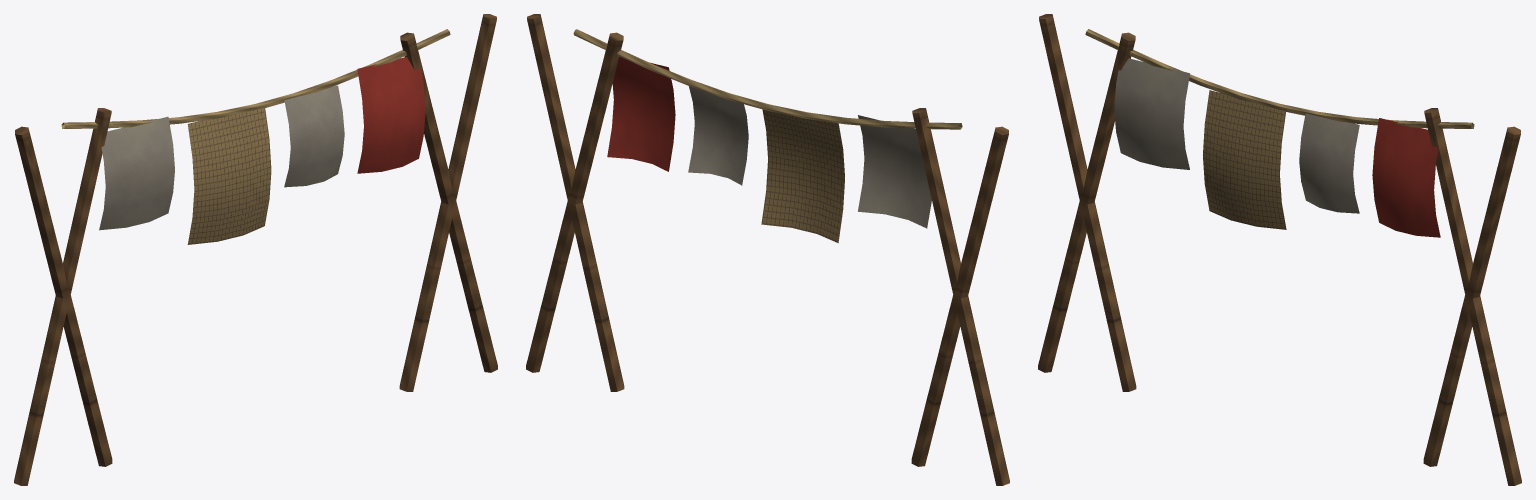
Rendered from prop_waslijn_red.glb.
3 views of the same model, side by side, from view 1: azimuth 30°, elevation 25°; view 2: azimuth 150°, elevation 25°; view 3: azimuth 330°, elevation 25° (orthographic).
Parts seen in each view (by area): view 1: prop_waslijn_red; view 2: prop_waslijn_red; view 3: prop_waslijn_red.
Part boxes in pixels (<box>): prop_waslijn_red: <box>14,14,497,485</box>; prop_waslijn_red: <box>526,14,1009,485</box>; prop_waslijn_red: <box>1038,14,1521,485</box>.
Size of the model in its own units: 1.25 by 0.882 by 0.06.
1 material, 1 textured.
